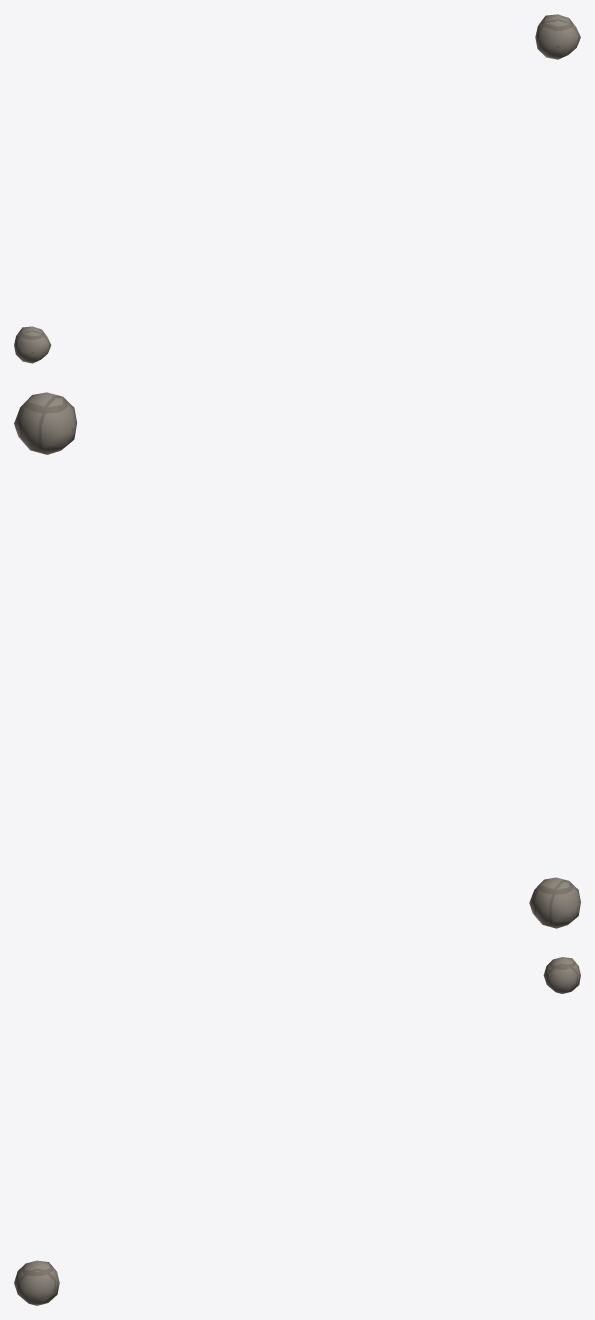
File: ISL-M_LOD0_Reef.fbx
The picture shows the model from 3 angles, top to bottom: view 1: azimuth 90°, elevation 25°; view 2: azimuth 150°, elevation 25°; view 3: azimuth 270°, elevation 25°; orthographic projection. The views are drawn at different scales.
Visible parts, largest first — view 1: ISL-M_LOD0_Reef; view 2: ISL-M_LOD0_Reef; view 3: ISL-M_LOD0_Reef.
Boxes of the visible parts, bbox=[...] form: ISL-M_LOD0_Reef: bbox=[14, 14, 580, 363]; ISL-M_LOD0_Reef: bbox=[14, 392, 580, 928]; ISL-M_LOD0_Reef: bbox=[14, 957, 580, 1305].
Size of the model in its own units: 74.14 by 54.6 by 4.4.
